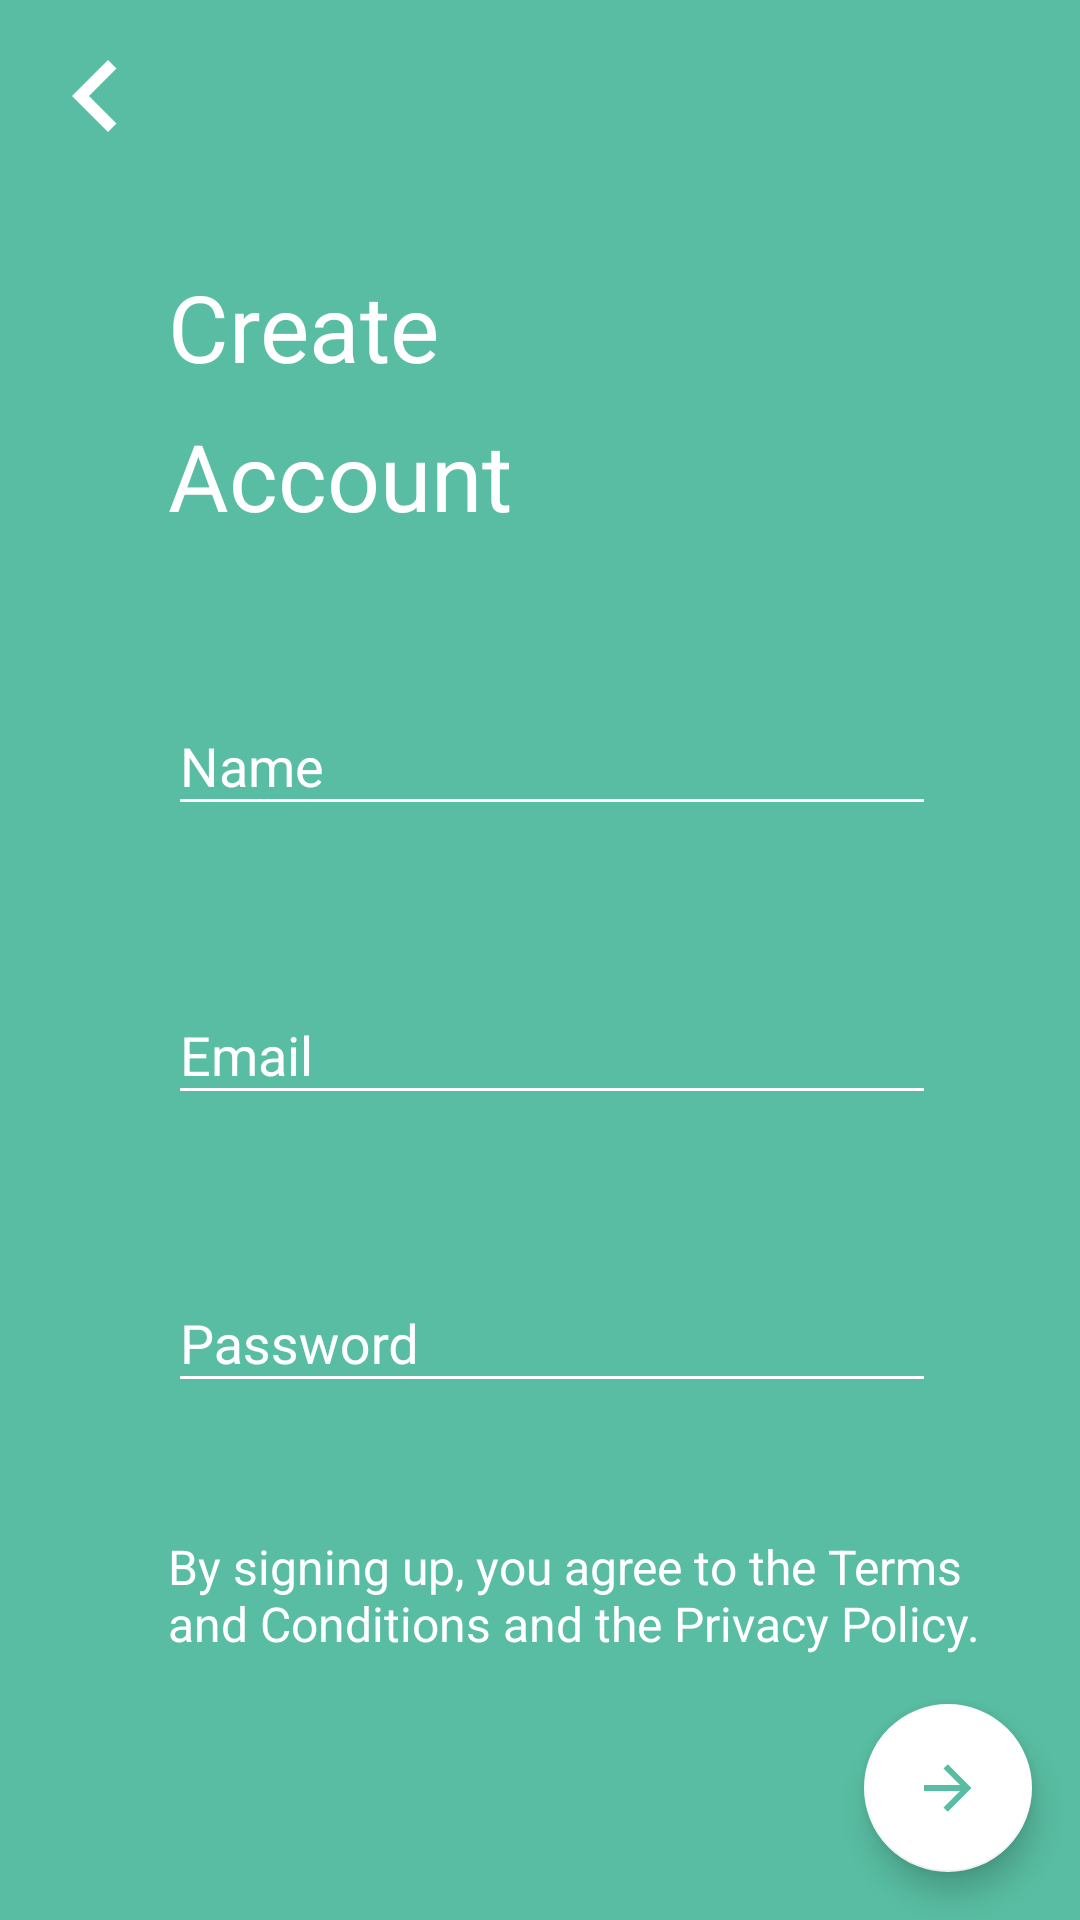

Icons on this 1080px x 1920px Android screen, each with its box as (x1, y1, x2, y2):
arrow left: (72, 60, 117, 132)
arrow right: (864, 1704, 1032, 1872)
